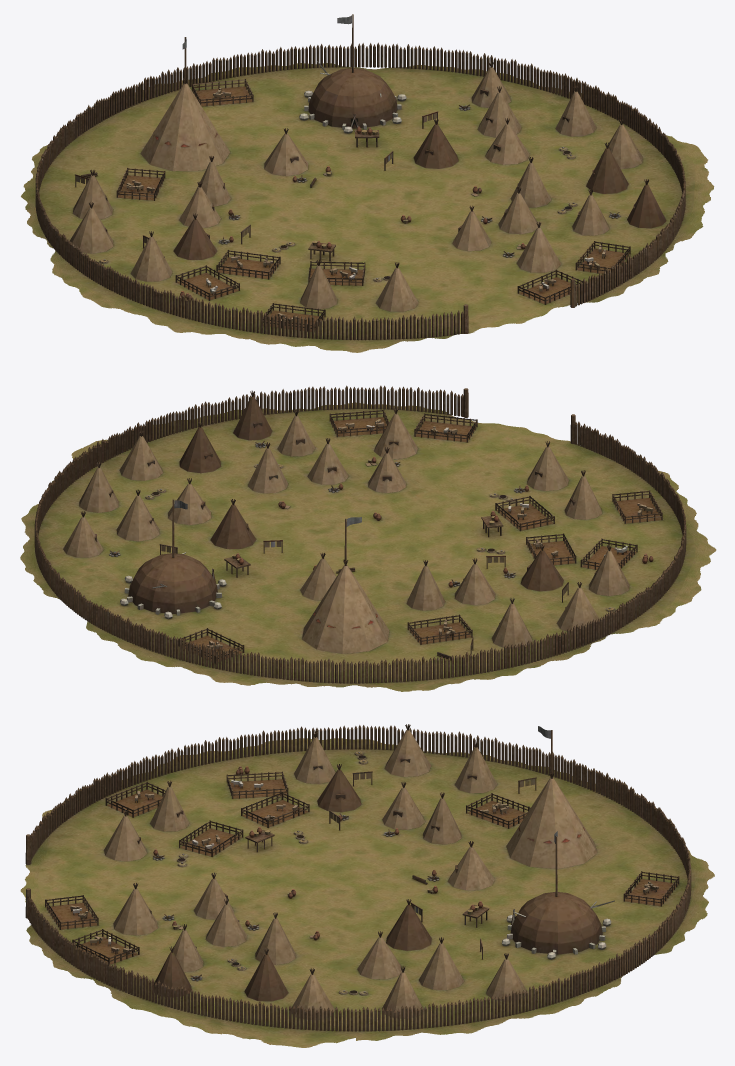
File: stone-town-big-a-steppe.glb
3 renders of one model, top to bottom at view 1: azimuth 30°, elevation 25°; view 2: azimuth 150°, elevation 25°; view 3: azimuth 270°, elevation 25°, orthographic. The views are drawn at different scales.
Visible parts, largest first — view 1: LOD0; view 2: LOD0; view 3: LOD0.
Boxes of the visible parts, left/top/right/bottom form: LOD0: left=21, top=14, right=714, bottom=352; LOD0: left=20, top=385, right=716, bottom=691; LOD0: left=20, top=724, right=714, bottom=1047.
Size of what is drawn, in the model's own units: 8.1 by 1.45 by 7.63.
3 materials, 3 textured.
